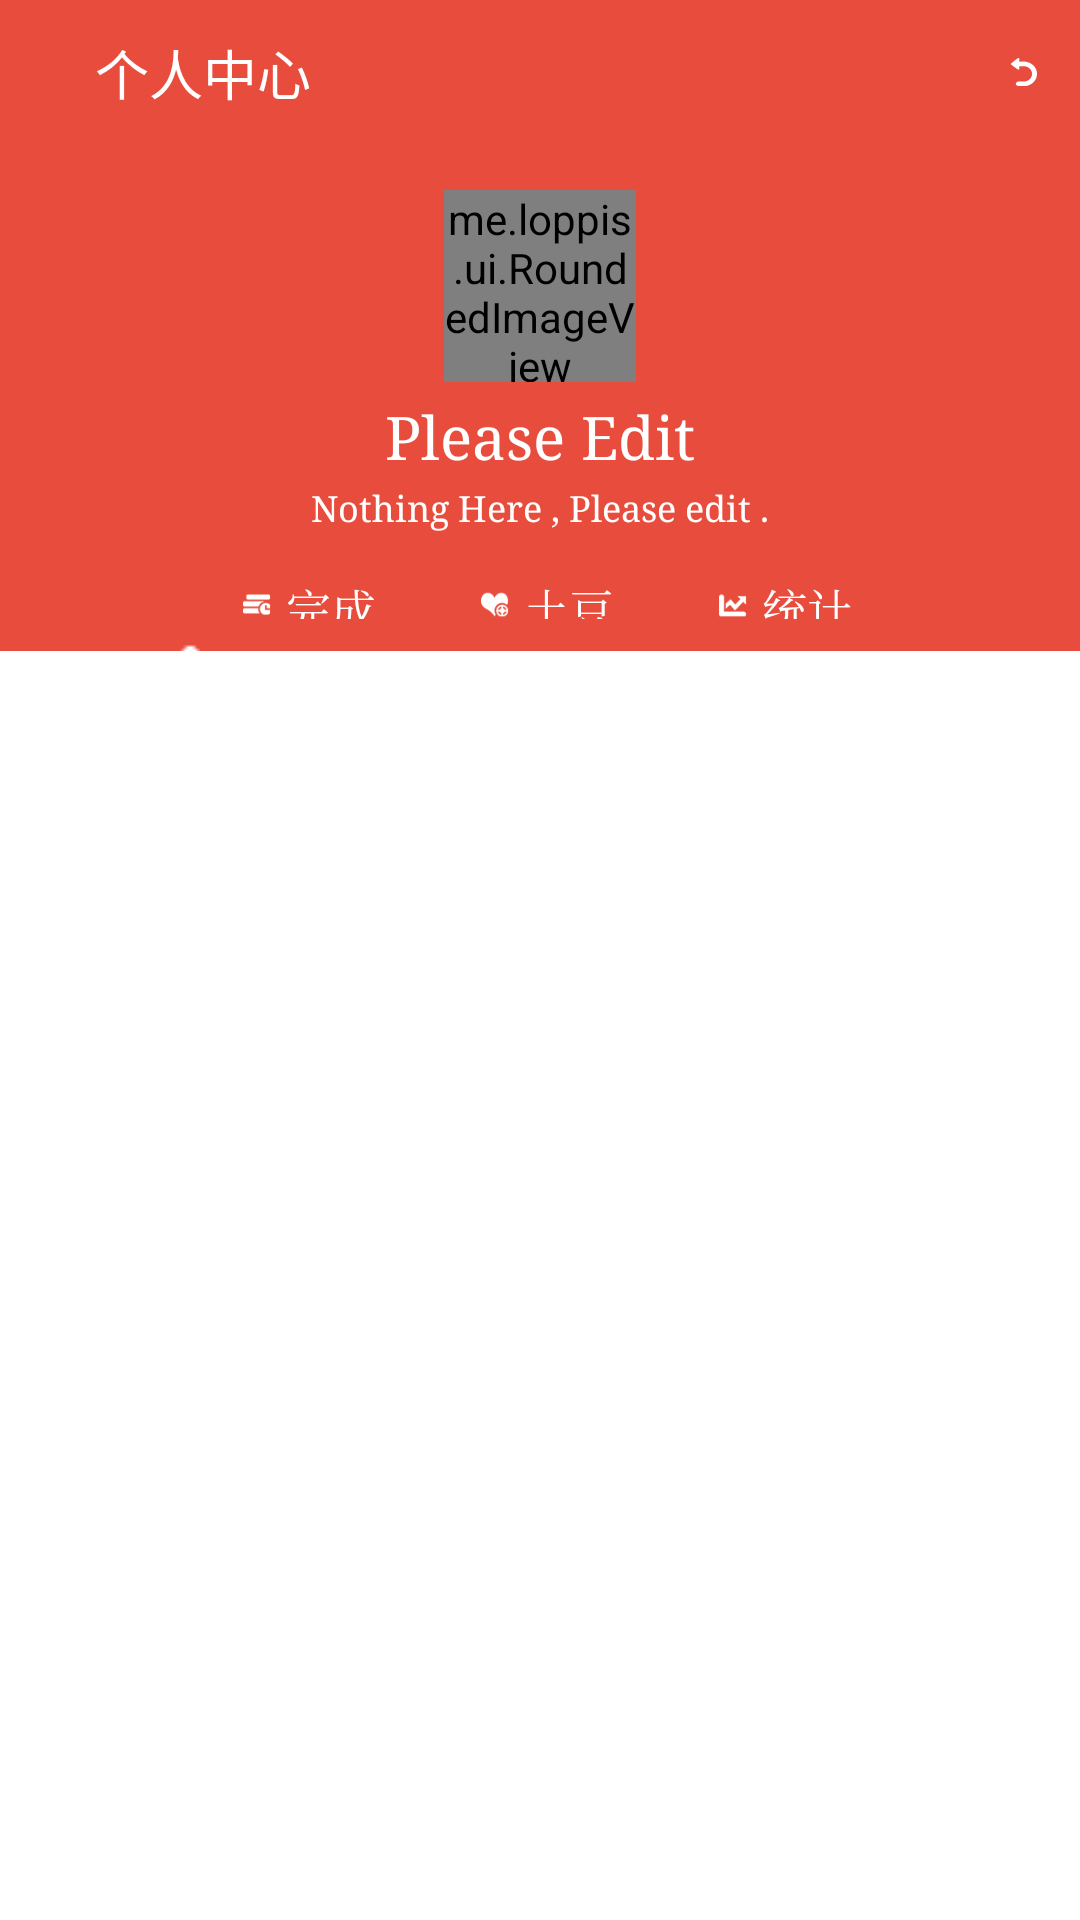

Screen size 1080×1920. Icon name, then its center in pixels as point (x, y):
back: point (1024, 72)
chart: point (732, 605)
